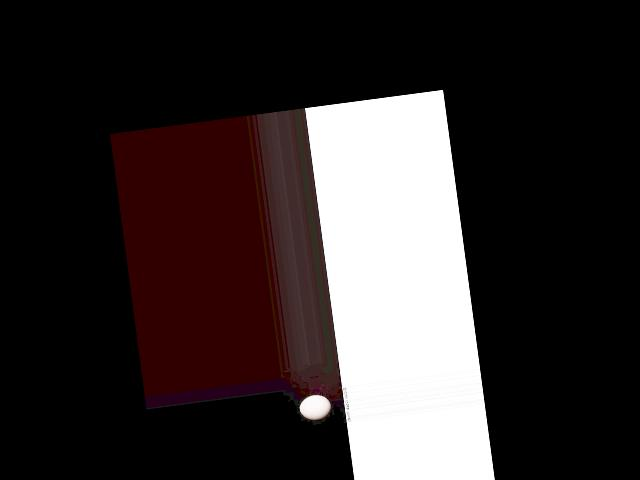egg: (298, 393, 333, 421)
